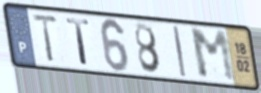6: (99, 17, 130, 74)
8: (133, 22, 162, 75)
I: (171, 24, 188, 80)
M: (188, 28, 239, 84)
T: (31, 12, 60, 64), (64, 17, 92, 68)
